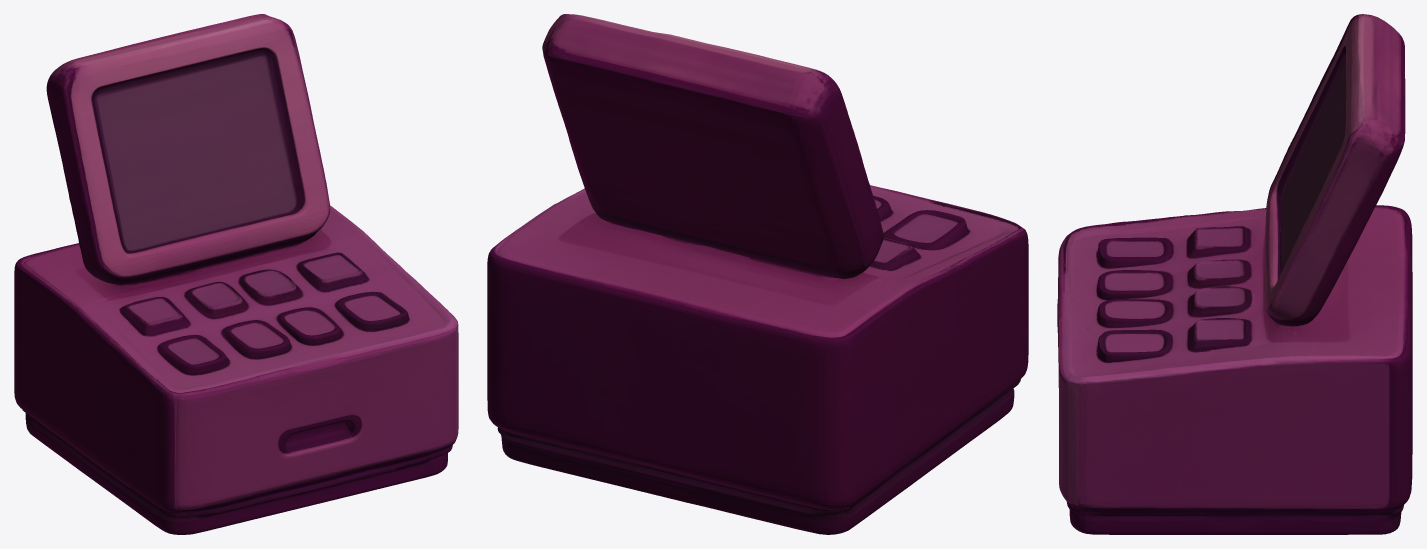
3 renders of one model, left to right at view 1: azimuth 30°, elevation 25°; view 2: azimuth 150°, elevation 25°; view 3: azimuth 270°, elevation 25°, orthographic. The views are drawn at different scales.
Visible parts, largest first — view 1: world.001; view 2: world.001; view 3: world.001.
Boxes of the visible parts, x1,y1,x2,y2 form: world.001: (14, 14, 458, 534); world.001: (487, 14, 1028, 534); world.001: (1057, 14, 1412, 534).
Bounding box in the file's own units: 85.69 × 100 × 82.21.
1 material, 1 textured.
